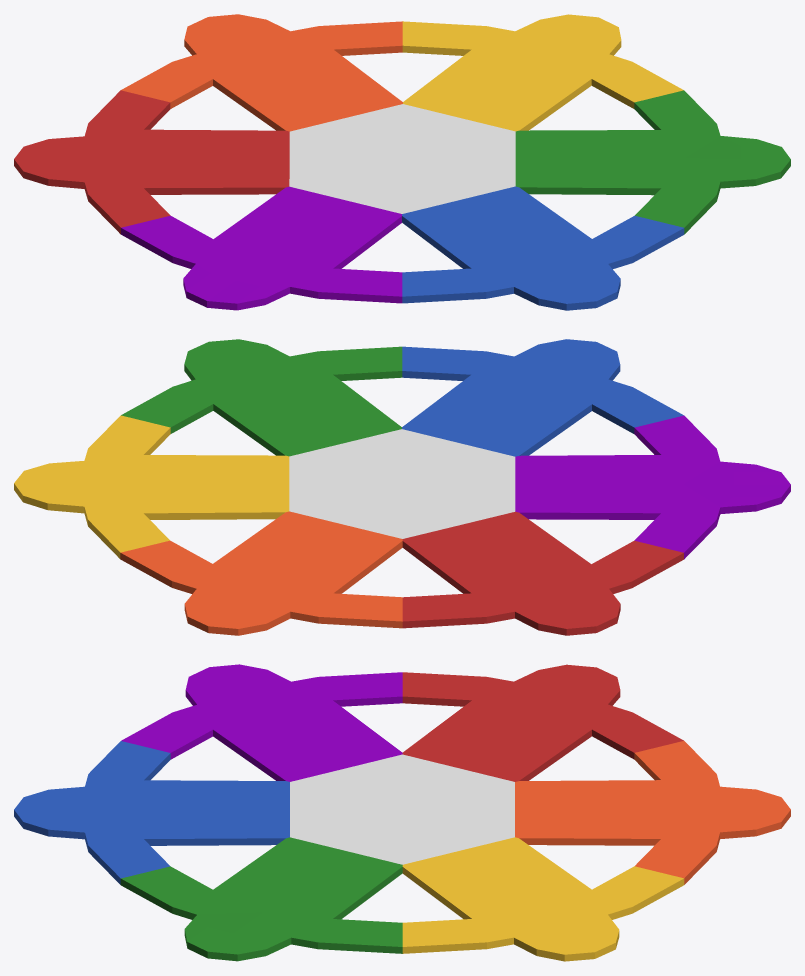
Rendered from platform-low.dae.
3 views of the same model, one above another, from view 1: azimuth 30°, elevation 25°; view 2: azimuth 150°, elevation 25°; view 3: azimuth 270°, elevation 25° (orthographic).
Parts seen in each view (by area): view 1: Hexagon_001; view 2: Hexagon_001; view 3: Hexagon_001.
Part boxes in pixels (x1,y1,x2,y2): Hexagon_001: [14, 14, 790, 310]; Hexagon_001: [14, 339, 790, 635]; Hexagon_001: [14, 664, 790, 961].
Bounding box in the file's own units: 9.13 × 10.32 × 0.1028.
